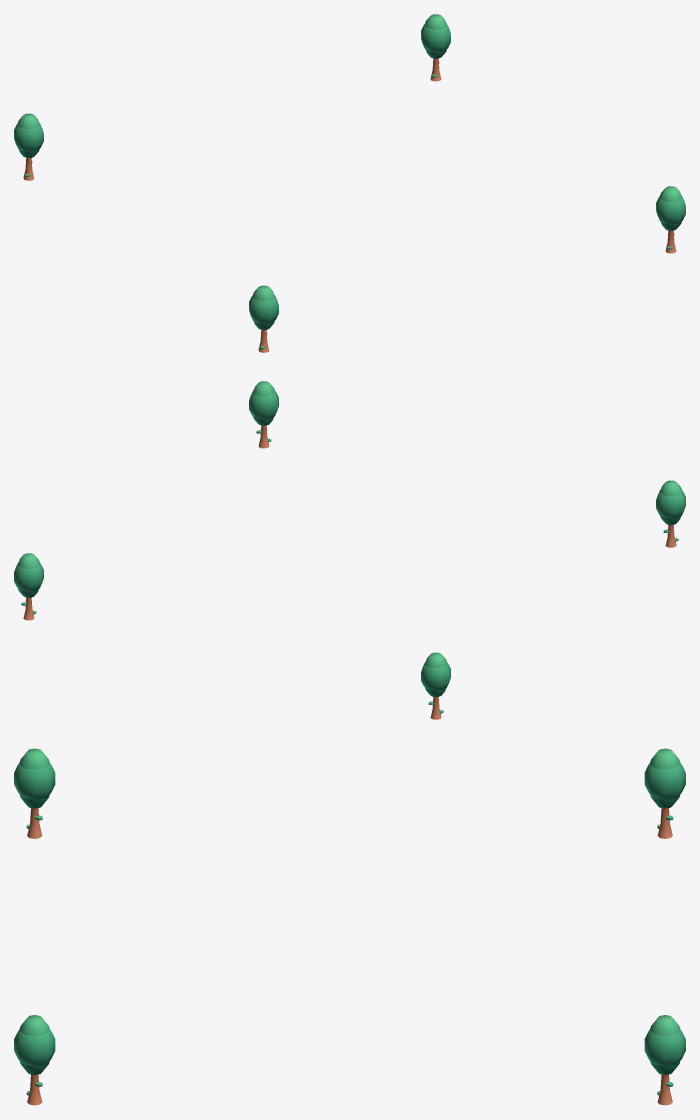
File: gardens-6-0.glb
3 renders of one model, top to bottom at view 1: azimuth 30°, elevation 25°; view 2: azimuth 150°, elevation 25°; view 3: azimuth 270°, elevation 25°, orthographic. The views are drawn at different scales.
Parts seen in each view (by area): view 1: gardens-6-0; view 2: gardens-6-0; view 3: gardens-6-0.
Boxes of the visible parts, left/top/right/bottom form: gardens-6-0: left=14, top=14, right=685, bottom=352; gardens-6-0: left=14, top=381, right=685, bottom=719; gardens-6-0: left=14, top=748, right=685, bottom=1105.
Bounding box in the file's own units: 85.26 × 11.76 × 85.26.
Materials: 4 (4 with a texture image).
